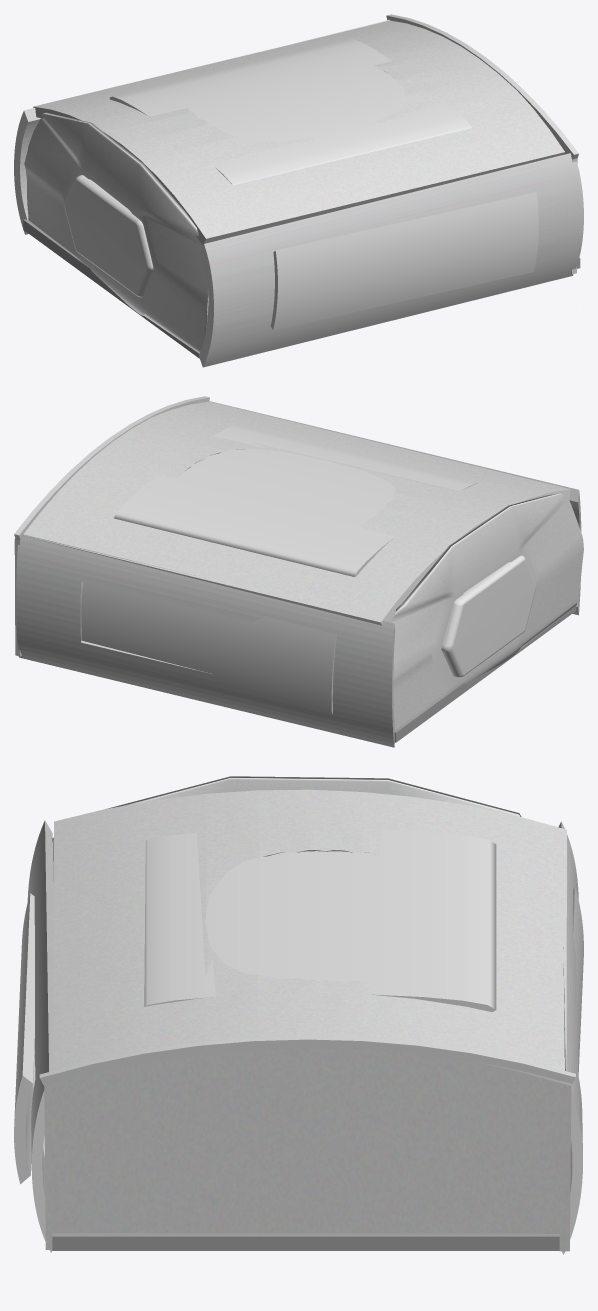
The model's file is room_update.fbx.
3 views of the same model, one above another, from view 1: azimuth 30°, elevation 25°; view 2: azimuth 150°, elevation 25°; view 3: azimuth 270°, elevation 25° (orthographic). The views are drawn at different scales.
Parts seen in each view (by area): view 1: polySurface7, pasted__polySurface1, cell_inner_transparent, pasted__pCube1, pasted__front_wall, pasted__pasted__pasted__pCube3, pasted__pasted__polySurface1, polySurface5, pCube5; view 2: polySurface7, pasted__pasted__polySurface1, cell_inner_transparent, pasted__front_wall, pasted__pasted__pCube1, pasted__pasted__pasted__pCube3, polySurface5, pCube5, pasted__polySurface1; view 3: polySurface5, polySurface7, cell_inner_transparent, pCube5, pasted__polySurface1, pasted__pCube1, pasted__front_wall, pasted__pasted__polySurface1, pasted__pasted__pCube1.
Part boxes in pixels (left/top/right/bottom): polySurface7: left=33, top=20, right=564, bottom=245; pasted__polySurface1: left=198, top=153, right=583, bottom=367; cell_inner_transparent: left=109, top=38, right=471, bottom=185; pasted__pCube1: left=271, top=192, right=538, bottom=330; pasted__front_wall: left=24, top=112, right=208, bottom=353; pasted__pasted__pasted__pCube3: left=64, top=175, right=153, bottom=297; pasted__pasted__polySurface1: left=14, top=19, right=389, bottom=234; polySurface5: left=386, top=14, right=578, bottom=274; pCube5: left=23, top=219, right=580, bottom=358; polySurface7: left=22, top=401, right=570, bottom=625; pasted__pasted__polySurface1: left=16, top=534, right=395, bottom=747; cell_inner_transparent: left=114, top=424, right=478, bottom=577; pasted__front_wall: left=390, top=493, right=583, bottom=729; pasted__pasted__pCube1: left=81, top=582, right=336, bottom=715; pasted__pasted__pasted__pCube3: left=441, top=555, right=536, bottom=677; polySurface5: left=14, top=396, right=209, bottom=656; pCube5: left=394, top=607, right=575, bottom=742; pasted__polySurface1: left=206, top=400, right=581, bottom=615; polySurface5: left=39, top=1036, right=575, bottom=1251; polySurface7: left=53, top=789, right=566, bottom=1070; cell_inner_transparent: left=144, top=829, right=496, bottom=1012; pCube5: left=52, top=1233, right=559, bottom=1250; pasted__polySurface1: left=27, top=820, right=53, bottom=1252; pasted__pCube1: left=14, top=893, right=34, bottom=1184; pasted__front_wall: left=52, top=776, right=521, bottom=881; pasted__pasted__polySurface1: left=558, top=821, right=582, bottom=1254; pasted__pasted__pCube1: left=573, top=887, right=583, bottom=1075.
Size of the model in its own units: 22.44 by 10.25 by 20.22.
